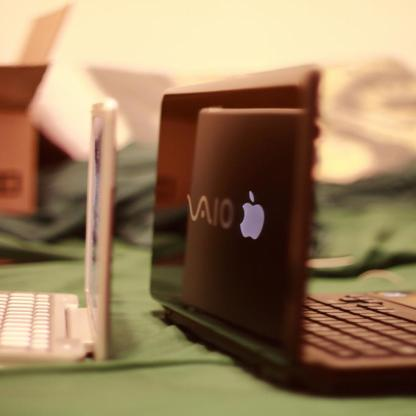board: (148, 64, 416, 388), (0, 100, 119, 364)
